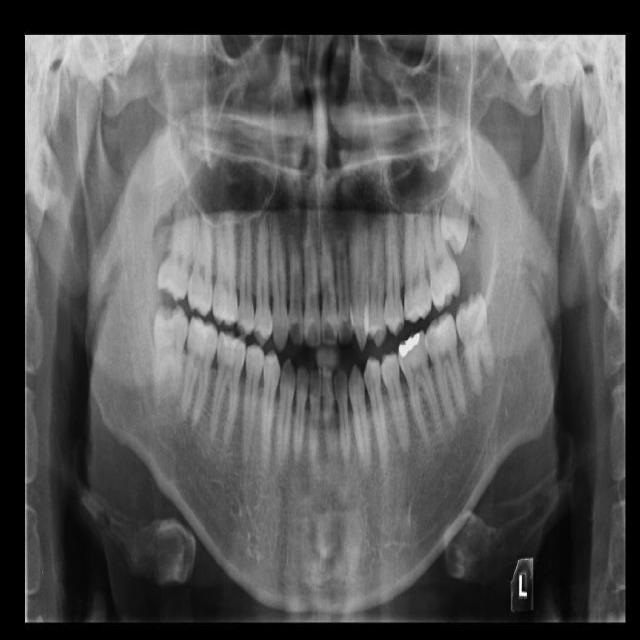Filling: (398, 332, 419, 361)
impacted tooth: (455, 292, 496, 398), (442, 142, 477, 255), (151, 306, 187, 409)
